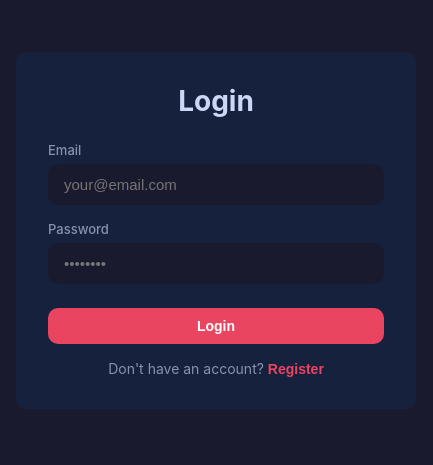
Test case: AuthPage › toggles to register form
What coordinates should you click on to do the following:
click the button "Register"
I would click on:
 (296, 369)
Its box is [268,361,324,377].
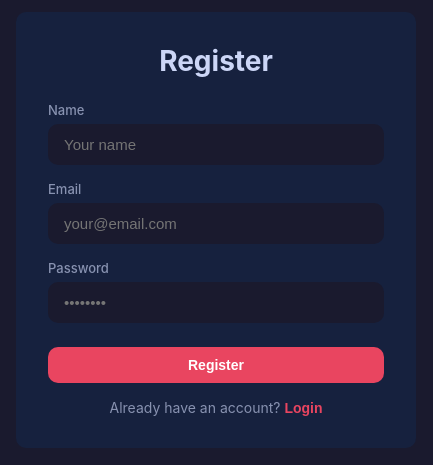
Now the heading reads "Register", box [159,44,273,78]
Now the field labelled "Name" is shown, box [48,124,384,165]
